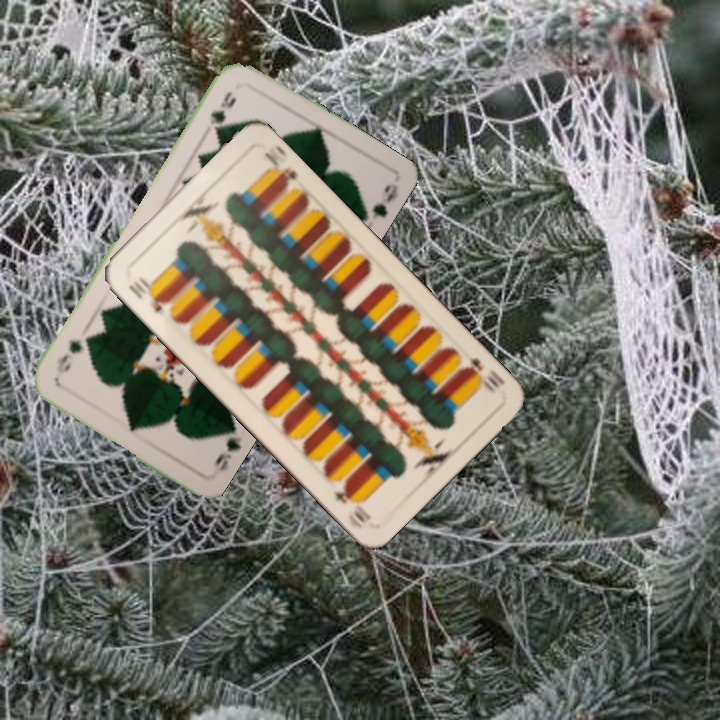E10: (457, 352, 508, 397), (124, 272, 170, 315)
G9: (210, 421, 244, 474), (205, 86, 239, 137)
